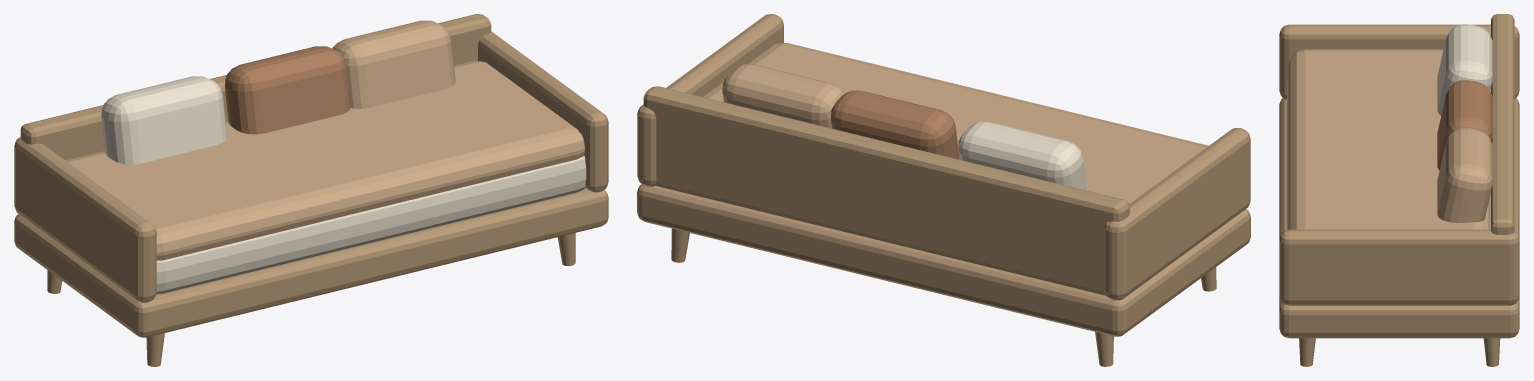
File: bed-day.glb
The picture shows the model from 3 angles, left to right: view 1: azimuth 30°, elevation 25°; view 2: azimuth 150°, elevation 25°; view 3: azimuth 270°, elevation 25°; orthographic projection. The views are drawn at different scales.
Parts seen in each view (by area): view 1: bed-day; view 2: bed-day; view 3: bed-day.
Part boxes in pixels (x1,y1,x2,y2): bed-day: (14,14,608,366); bed-day: (637,14,1250,366); bed-day: (1279,14,1519,366).
Size of the model in its own units: 2.03 by 0.78 by 0.96.
